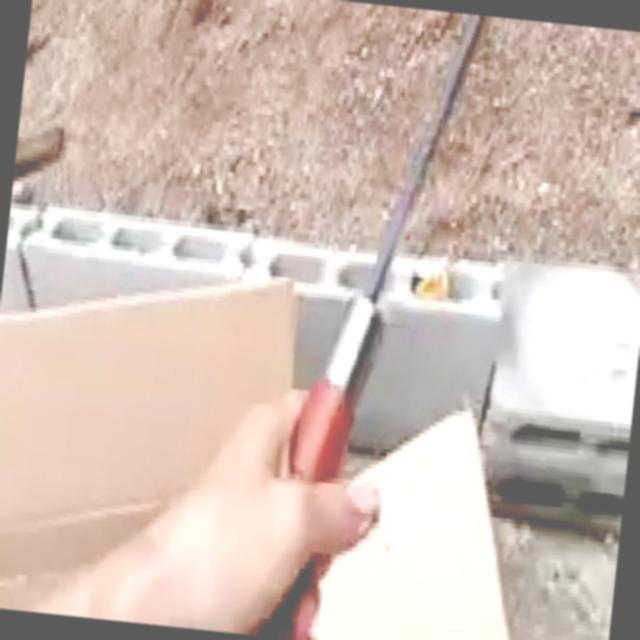eto: (215, 14, 488, 636)
